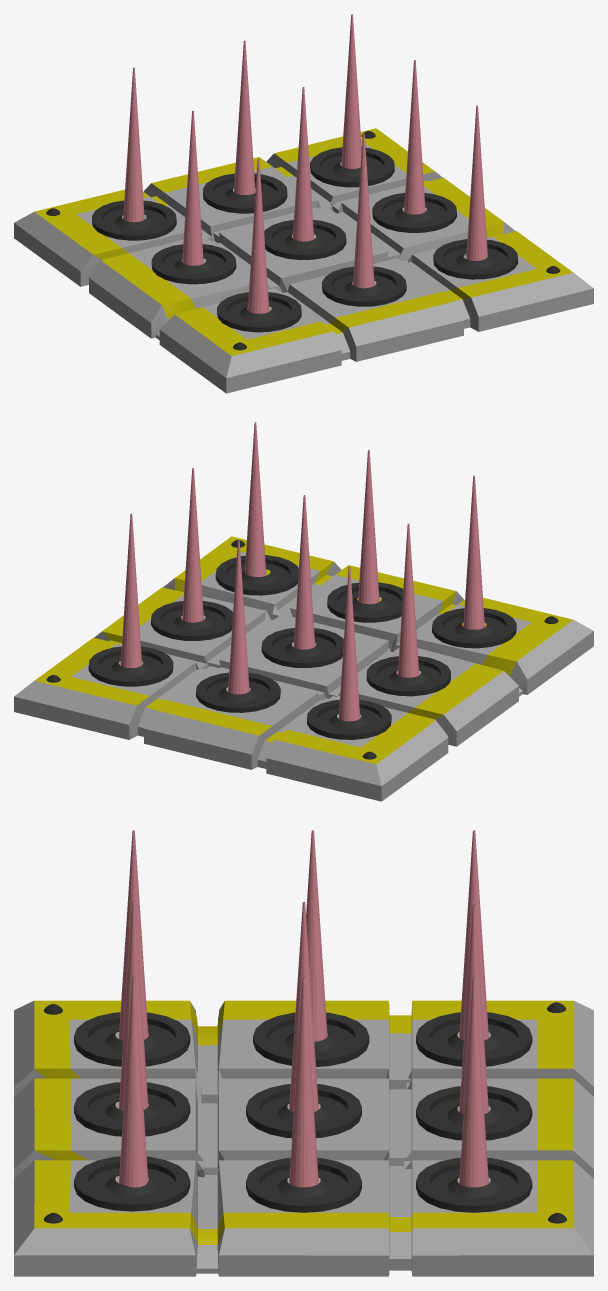
The model's file is Spikes.fbx.
The picture shows the model from 3 angles, top to bottom: view 1: azimuth 30°, elevation 25°; view 2: azimuth 150°, elevation 25°; view 3: azimuth 270°, elevation 25°; orthographic projection. The views are drawn at different scales.
Visible parts, largest first — view 1: pCube1, polySurface7, polySurface8, polySurface3, polySurface6, polySurface9, polySurface10, polySurface1, polySurface4, polySurface5, polySurface12, polySurface13 (+7 smaller); view 2: pCube1, polySurface4, polySurface8, polySurface7, polySurface5, polySurface6, polySurface3, polySurface1, polySurface10, polySurface9, polySurface11, polySurface12 (+7 smaller); view 3: pCube1, polySurface4, polySurface3, polySurface10, polySurface9, polySurface6, polySurface5, polySurface1, polySurface8, polySurface7, polySurface18, polySurface11 (+7 smaller).
Boxes of the visible parts, x1,y1,x2,y2 form: pCube1: (14, 128, 593, 393); polySurface7: (151, 244, 236, 284); polySurface8: (217, 292, 301, 332); polySurface3: (372, 192, 456, 232); polySurface6: (92, 200, 176, 240); polySurface9: (322, 266, 406, 306); polySurface10: (433, 239, 517, 279); polySurface1: (264, 220, 346, 259); polySurface4: (310, 147, 394, 187); polySurface5: (203, 173, 287, 213); polySurface12: (466, 105, 487, 260); polySurface13: (353, 133, 374, 288); pCube1: (14, 536, 593, 801); polySurface4: (88, 646, 173, 686); polySurface8: (432, 608, 516, 648); polySurface7: (366, 656, 450, 696); polySurface5: (196, 672, 280, 712); polySurface6: (307, 699, 391, 739); polySurface3: (151, 601, 232, 640); polySurface1: (261, 628, 343, 667); polySurface10: (215, 555, 298, 595); polySurface9: (327, 582, 403, 622); polySurface11: (182, 468, 203, 622); polySurface12: (244, 422, 266, 576); pCube1: (14, 1000, 593, 1276); polySurface4: (416, 1157, 532, 1212); polySurface3: (246, 1157, 361, 1212); polySurface10: (74, 1156, 190, 1211); polySurface9: (74, 1082, 190, 1136); polySurface6: (416, 1012, 532, 1066); polySurface5: (416, 1086, 532, 1140); polySurface1: (246, 1084, 361, 1138); polySurface8: (74, 1012, 190, 1066); polySurface7: (253, 1012, 369, 1066); polySurface18: (459, 976, 488, 1187); polySurface11: (289, 976, 318, 1187).
Size of the model in its own units: 2.11 by 1.01 by 2.11.
